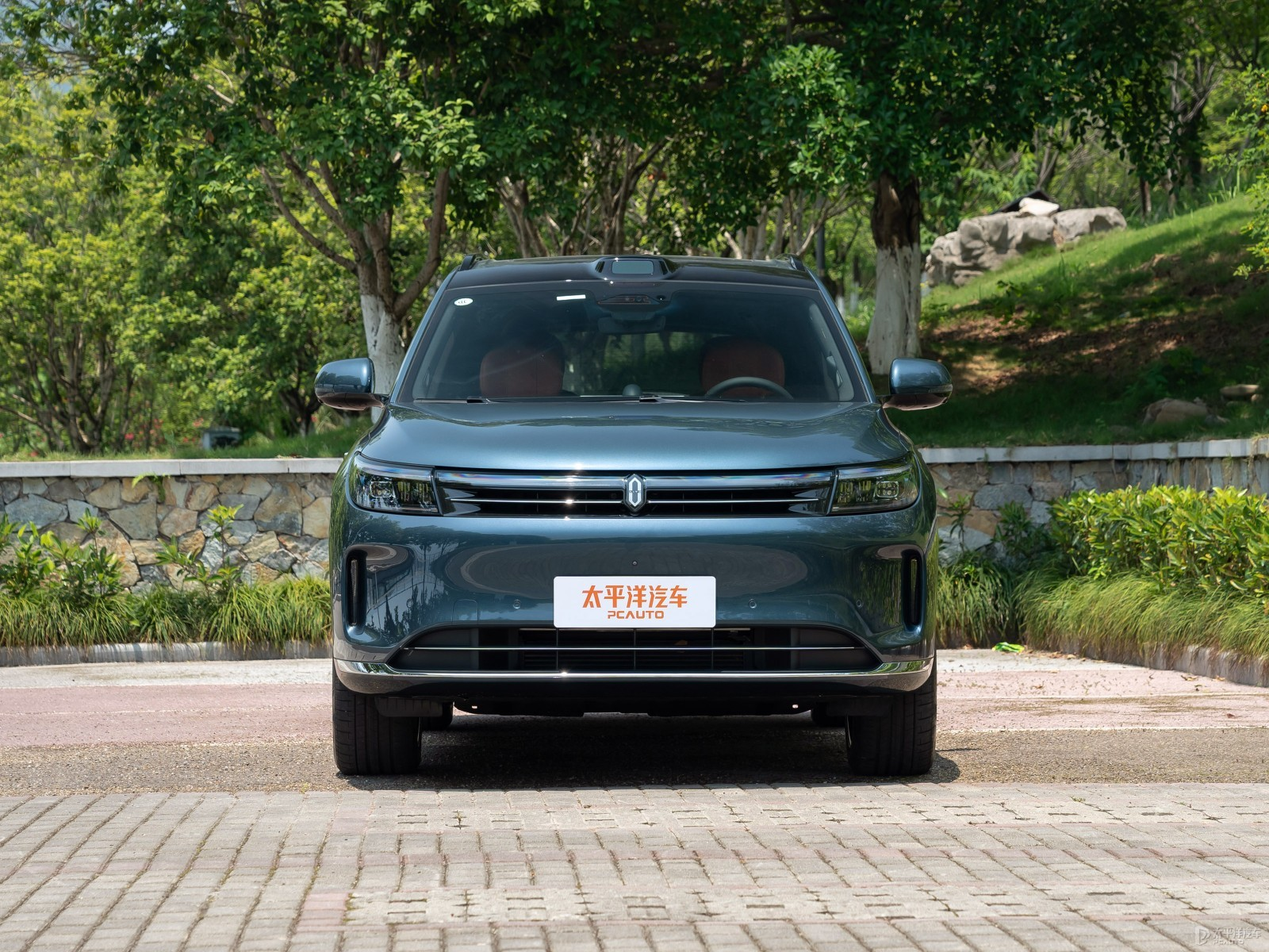AITO: (629, 478, 641, 506)
